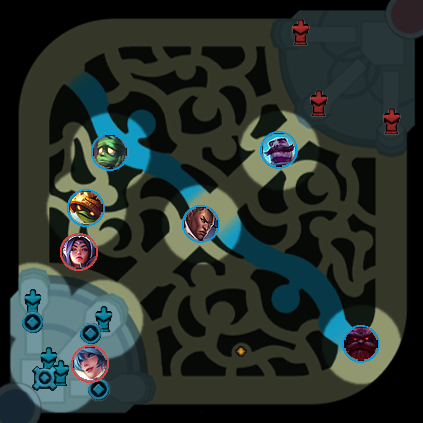Amumu: (91, 133, 129, 171)
Braum: (260, 131, 298, 169)
Irelia: (60, 233, 98, 271)
Lucian: (182, 205, 220, 243)
Ornn: (342, 325, 380, 363)
Rammus: (67, 189, 105, 227)
Sona: (71, 345, 109, 383)
